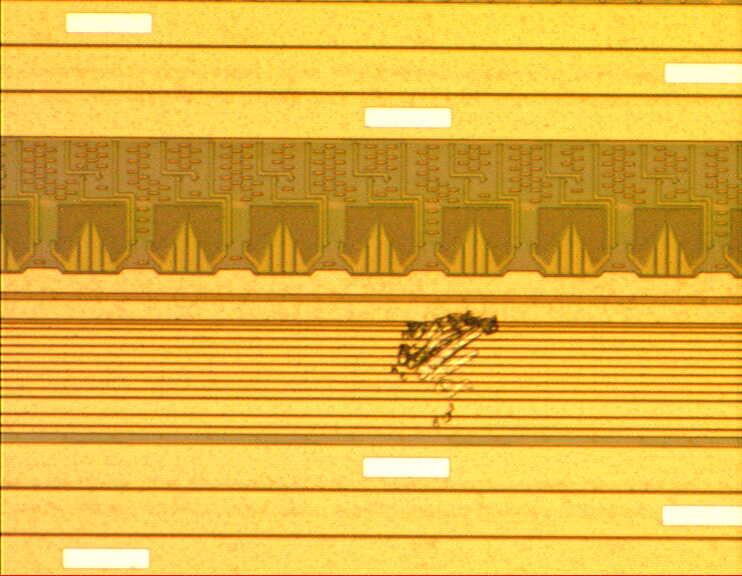SCRATCH: (392, 310, 507, 432)
